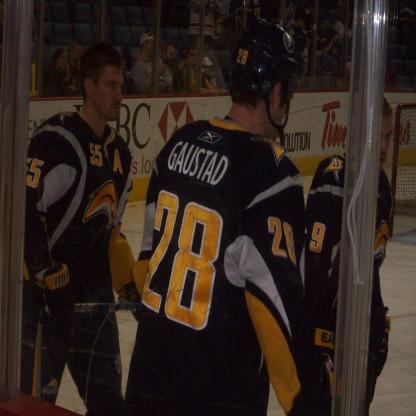Helmet: (224, 18, 302, 135)
